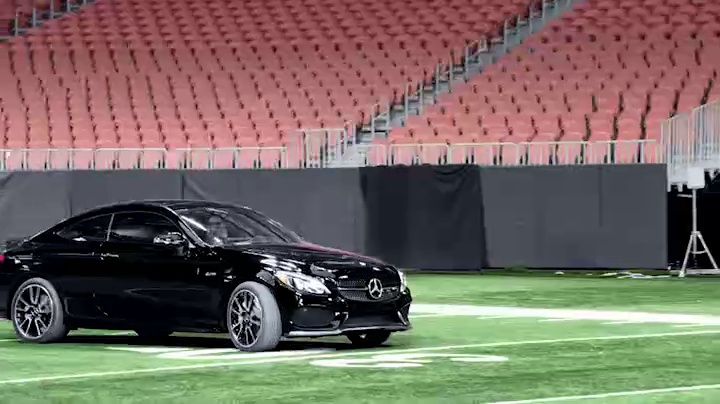amg: (4, 195, 413, 349)
